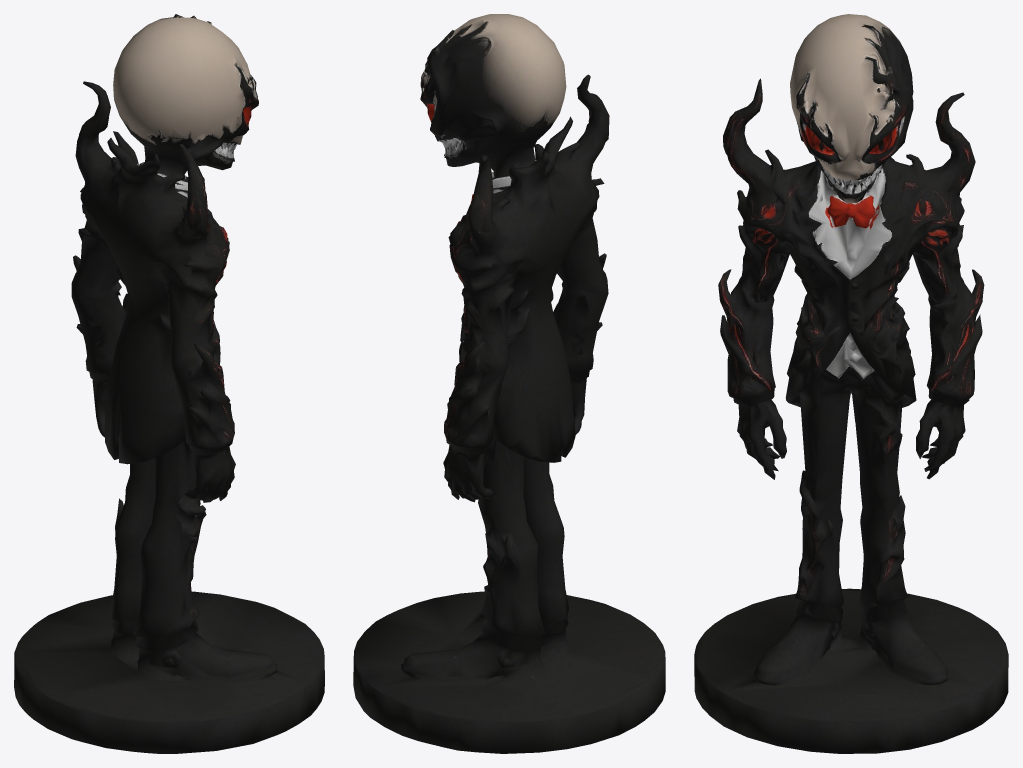
File: Bob-Symbiote.glb
3 renders of one model, left to right at view 1: azimuth 30°, elevation 25°; view 2: azimuth 150°, elevation 25°; view 3: azimuth 270°, elevation 25°, orthographic.
Visible parts, largest first — view 1: tripo_node_a8db602a-dcf1-4da8-9597-9a3ba5541710; view 2: tripo_node_a8db602a-dcf1-4da8-9597-9a3ba5541710; view 3: tripo_node_a8db602a-dcf1-4da8-9597-9a3ba5541710.
Part boxes in pixels (left/top/right/bottom): tripo_node_a8db602a-dcf1-4da8-9597-9a3ba5541710: left=14, top=14, right=324, bottom=753; tripo_node_a8db602a-dcf1-4da8-9597-9a3ba5541710: left=353, top=14, right=665, bottom=753; tripo_node_a8db602a-dcf1-4da8-9597-9a3ba5541710: left=694, top=14, right=1008, bottom=753.
Size of the model in its own units: 0.4162 by 0.9797 by 0.4152.
Materials: 1 (1 with a texture image).
